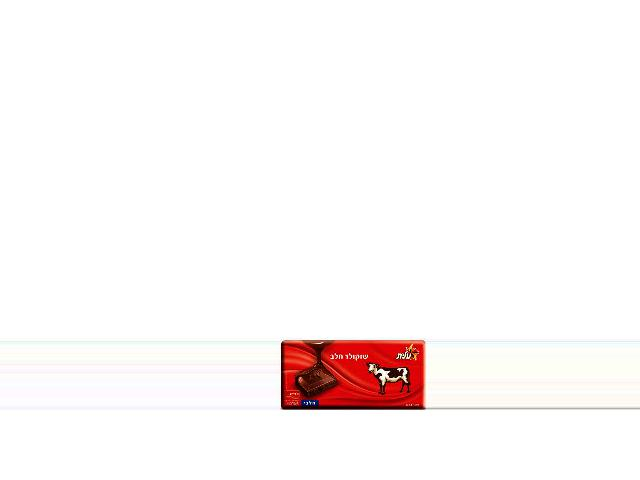chocolate: (280, 339, 426, 409)
